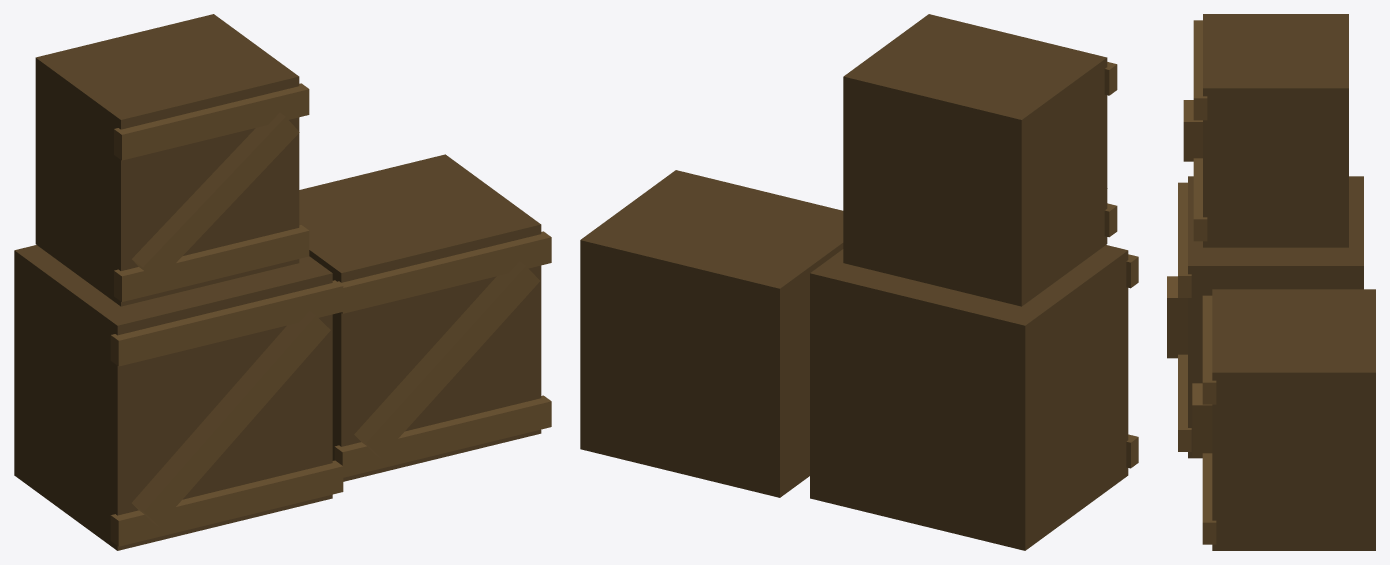
Rendered from stores.glb.
3 views of the same model, side by side, from view 1: azimuth 30°, elevation 25°; view 2: azimuth 150°, elevation 25°; view 3: azimuth 270°, elevation 25° (orthographic). The views are drawn at different scales.
Visible parts, largest first — view 1: stores; view 2: stores; view 3: stores.
Part boxes in pixels (<box>): stores: <box>14,14,551,550</box>; stores: <box>580,14,1138,550</box>; stores: <box>1167,14,1375,550</box>.
Bounding box in the file's own units: 1.45 × 1.31 × 0.6893.
